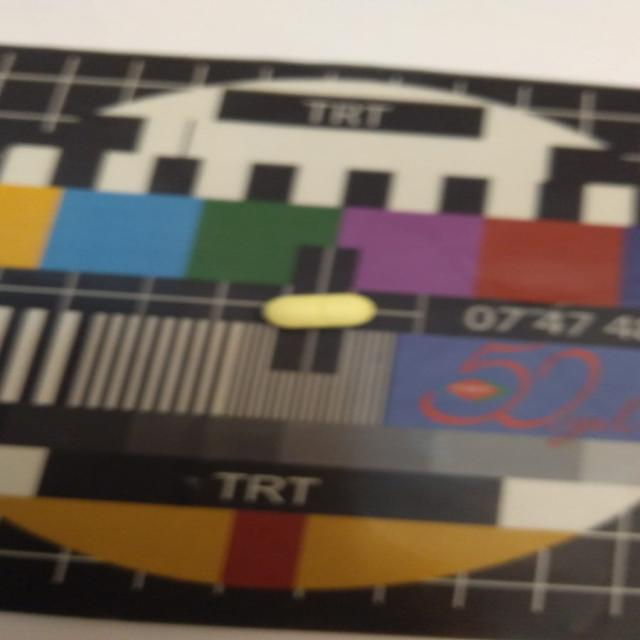pills: (249, 276, 392, 340)
